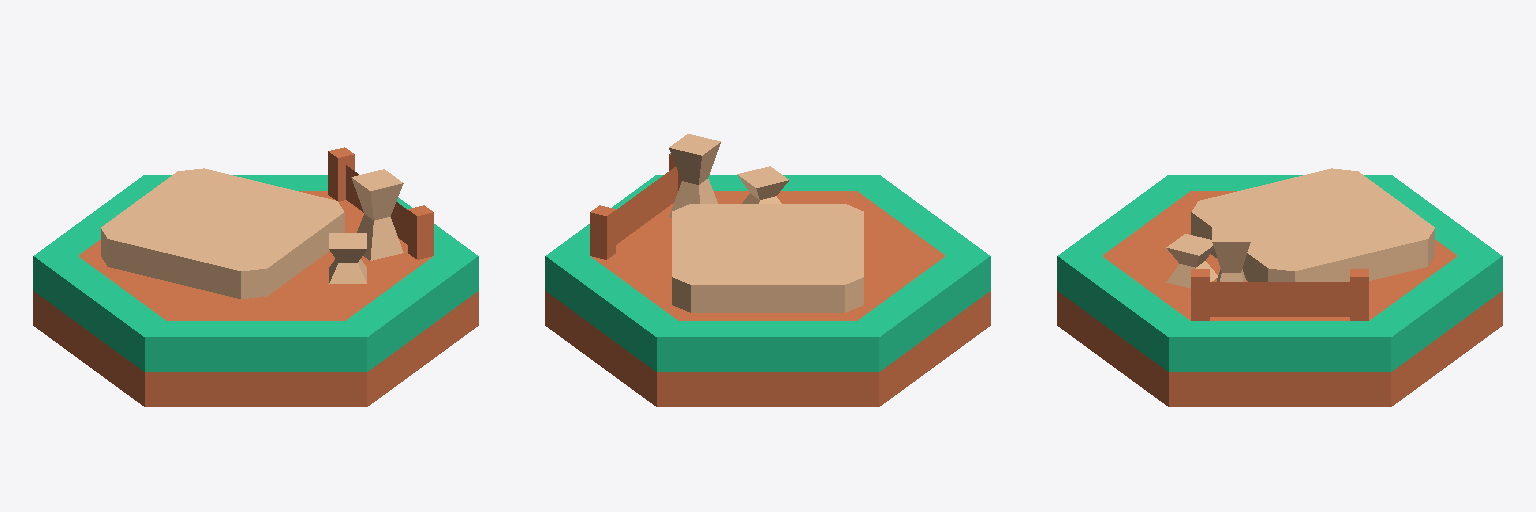
Rendered from building_farm.obj.
The picture shows the model from 3 angles: view 1: azimuth 30°, elevation 25°; view 2: azimuth 150°, elevation 25°; view 3: azimuth 270°, elevation 25°; orthographic projection.
Visible parts, largest first — view 1: building_farm, grain, grainBundle, fence; view 2: building_farm, grain, grainBundle, fence; view 3: building_farm, grain, fence, grainBundle.
Boxes of the visible parts, box(x1,y1,x2,y2) form: building_farm: box(33, 175, 478, 406); grain: box(101, 168, 344, 298); grainBundle: box(329, 169, 403, 283); fence: box(328, 147, 433, 259); building_farm: box(545, 175, 990, 406); grain: box(672, 204, 863, 312); grainBundle: box(669, 134, 788, 217); fence: box(590, 153, 681, 259); building_farm: box(1057, 175, 1502, 406); grain: box(1191, 168, 1434, 281); fence: box(1191, 269, 1368, 320); grainBundle: box(1166, 225, 1250, 288).
Size of the model in its own units: 1 by 0.4 by 1.15.